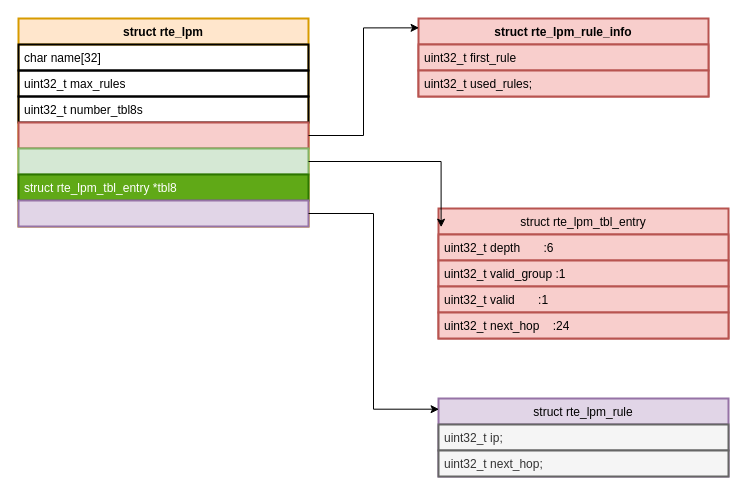
Image size: 746x496. Some labels were removed from this diagram. Here are the shapes that lost their labels. From the top down, the centre of each, then its label:
At (163,135): "struct rte_lpm_rule_info rule_info[32]".
At (163,161): "struct rte_lpm_tbl_entry tbl24[1<<24]".
At (163,213): "struct rte_lpm_rule *rules_tbl".
